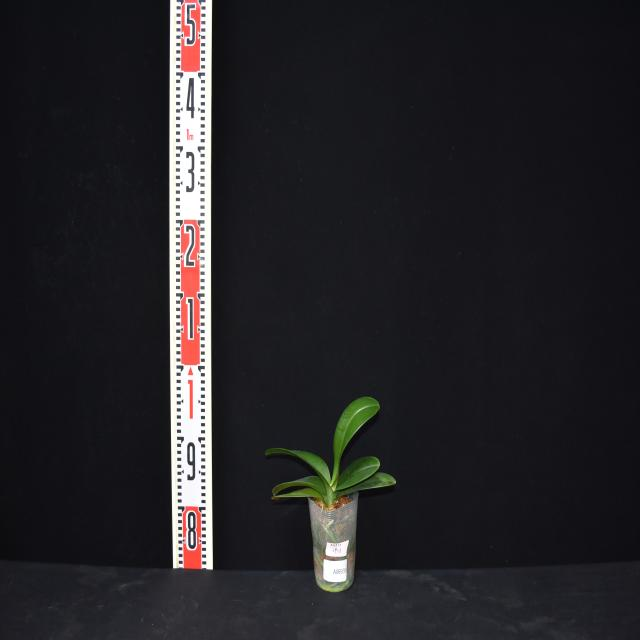leaf: (330, 397, 380, 491), (266, 448, 331, 495), (333, 457, 380, 491), (335, 472, 396, 498), (273, 477, 328, 500), (271, 488, 326, 503)
